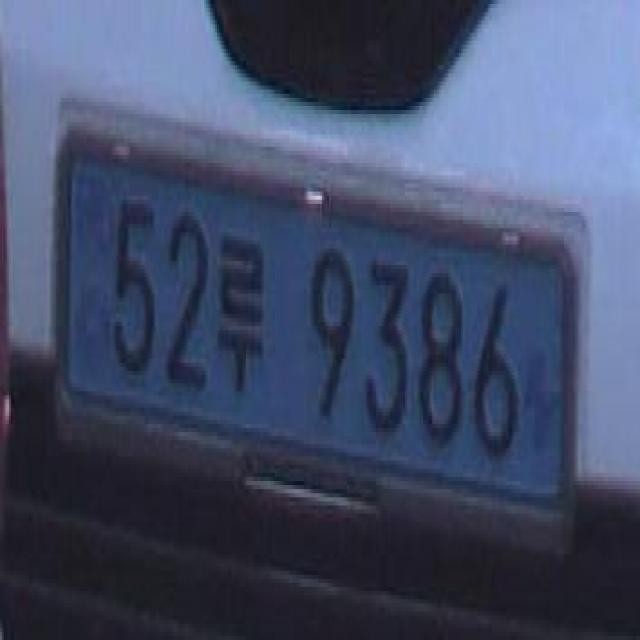EV_plate: (49, 124, 582, 550)
